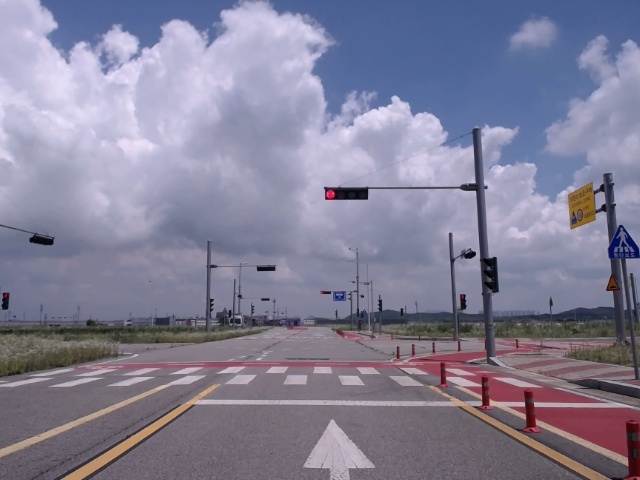red_4: (325, 188, 368, 200)
